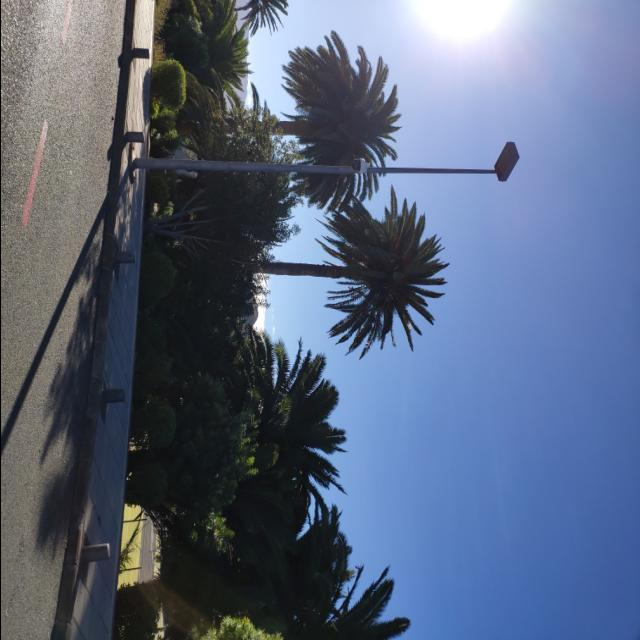Palm-Trees: (265, 196, 449, 364), (246, 42, 400, 204)
